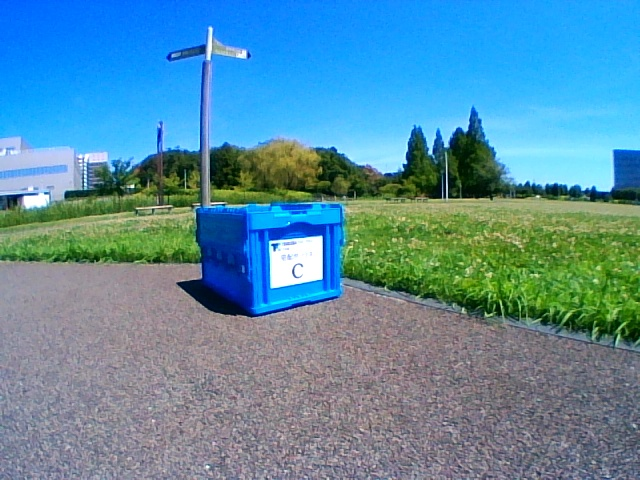blue_box: (197, 203, 343, 315)
tag_c: (273, 241, 320, 281)
